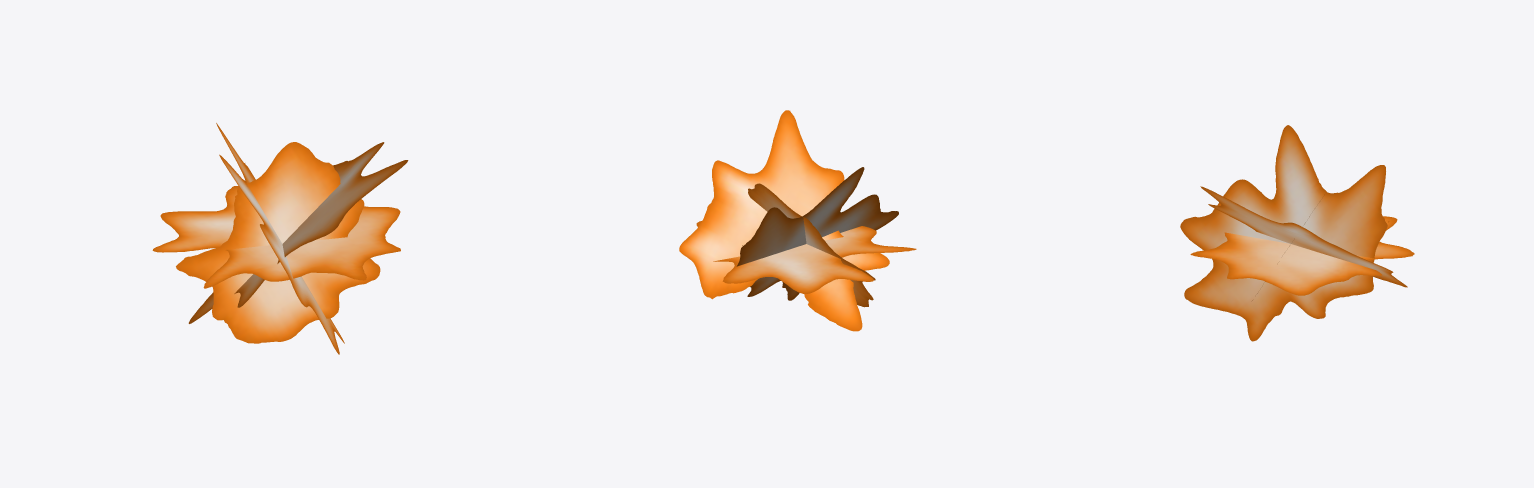
The model's file is flare.fbx.
The picture shows the model from 3 angles, left to right: view 1: azimuth 30°, elevation 25°; view 2: azimuth 150°, elevation 25°; view 3: azimuth 270°, elevation 25°; orthographic projection. The views are drawn at different scales.
Visible parts, largest first — view 1: pPlane6, pPlane4, pPlane7, pPlane5; view 2: pPlane7, pPlane5, pPlane4, pPlane6; view 3: pPlane5, pPlane4, pPlane7.
Part boxes in pixels (left/top/right/bottom): pPlane6: left=176, top=142, right=380, bottom=343; pPlane4: left=152, top=186, right=400, bottom=288; pPlane7: left=188, top=142, right=408, bottom=323; pPlane5: left=216, top=123, right=344, bottom=354; pPlane7: left=679, top=110, right=889, bottom=331; pPlane5: left=736, top=167, right=898, bottom=300; pPlane4: left=696, top=221, right=916, bottom=293; pPlane6: left=748, top=183, right=875, bottom=307; pPlane5: left=1180, top=125, right=1389, bottom=341; pPlane4: left=1190, top=216, right=1414, bottom=295; pPlane7: left=1200, top=186, right=1407, bottom=287.
Bounding box in the file's own units: 4.83 × 5.2 × 5.94.
1 material, 1 textured.
